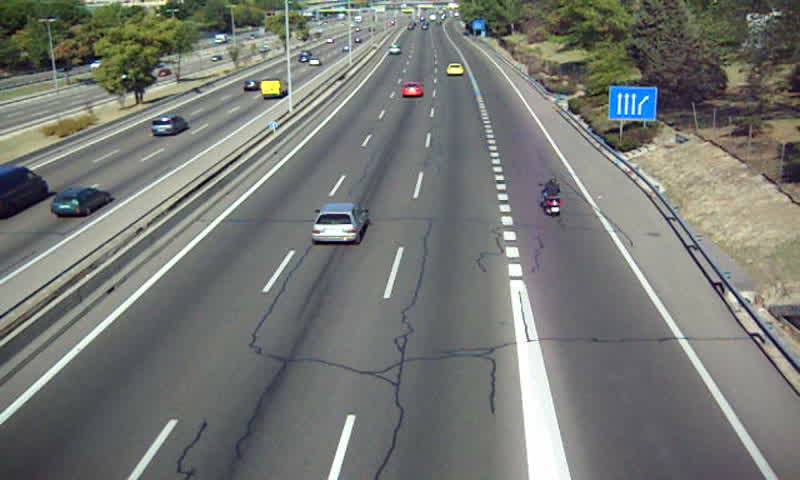car: (312, 204, 367, 244), (400, 81, 422, 100), (446, 64, 464, 75), (388, 45, 402, 56)
motorcycle: (541, 178, 565, 218)
